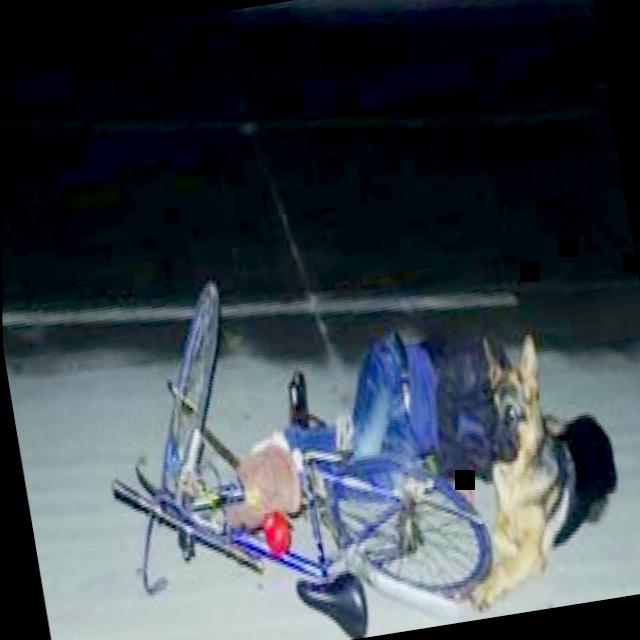Fall-Detected: (197, 233, 640, 640)
